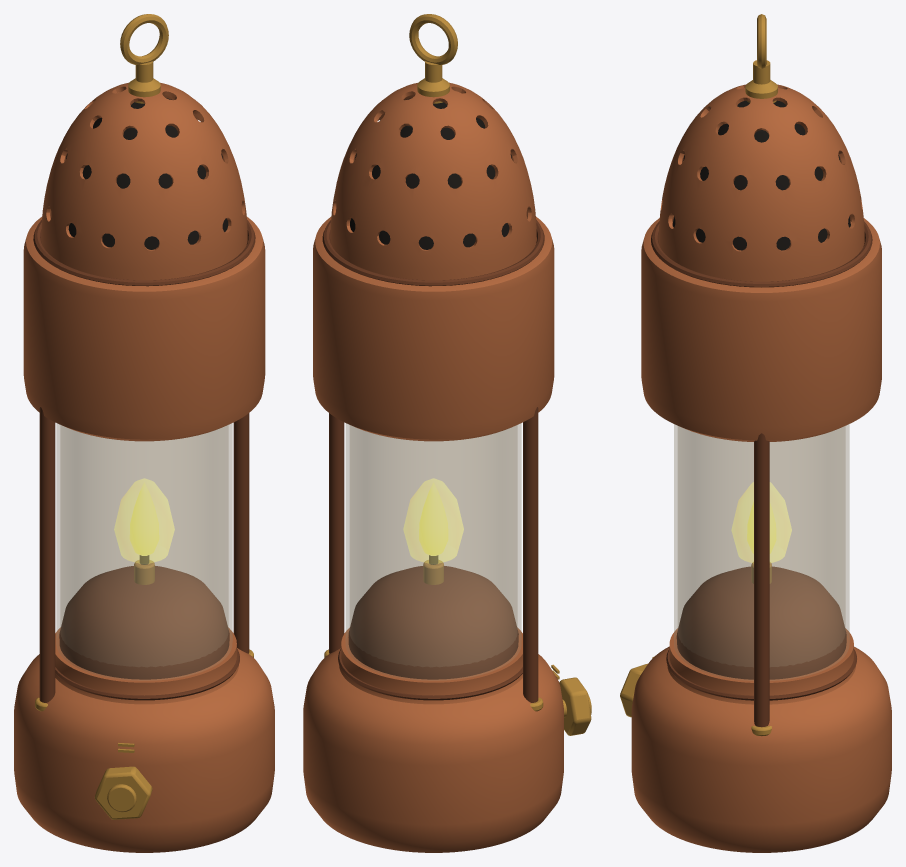
Rendered from camping-lantern.glb.
The picture shows the model from 3 angles, left to right: view 1: azimuth 30°, elevation 25°; view 2: azimuth 150°, elevation 25°; view 3: azimuth 270°, elevation 25°; orthographic projection.
Visible parts, largest first — view 1: base, glass, dome, burner, dome_lip, hang_ring, flame_glow, dome_liner, flame, finial; view 2: base, glass, dome, burner, dome_lip, flame_glow, hang_ring, dome_liner, flame, finial; view 3: base, glass, dome, burner, dome_lip, flame_glow, dome_liner, hang_ring, finial.
Boxes of the visible parts, x1,y1,x2,y2 form: base: (14, 216, 274, 852); glass: (56, 423, 232, 680); dome: (41, 82, 247, 280); burner: (59, 566, 229, 679); dome_lip: (33, 220, 255, 702); hang_ring: (35, 14, 253, 819); flame_glow: (114, 478, 174, 563); dome_liner: (66, 98, 228, 249); flame: (130, 482, 158, 555); finial: (128, 61, 160, 103); base: (303, 216, 563, 852); glass: (346, 423, 521, 680); dome: (330, 82, 536, 280); burner: (348, 566, 518, 679); dome_lip: (322, 219, 544, 702); flame_glow: (403, 478, 463, 563); hang_ring: (324, 14, 591, 735); dome_liner: (350, 98, 512, 249); flame: (419, 482, 447, 555); finial: (417, 61, 449, 103); base: (631, 218, 891, 852); glass: (674, 424, 849, 680); dome: (658, 84, 864, 281); burner: (676, 566, 846, 679); dome_lip: (651, 221, 872, 727); flame_glow: (731, 482, 791, 562); dome_liner: (672, 100, 850, 250); hang_ring: (620, 14, 771, 736); finial: (745, 60, 777, 102).
Size of the model in its own units: 0.12 by 0.4032 by 0.1253.
